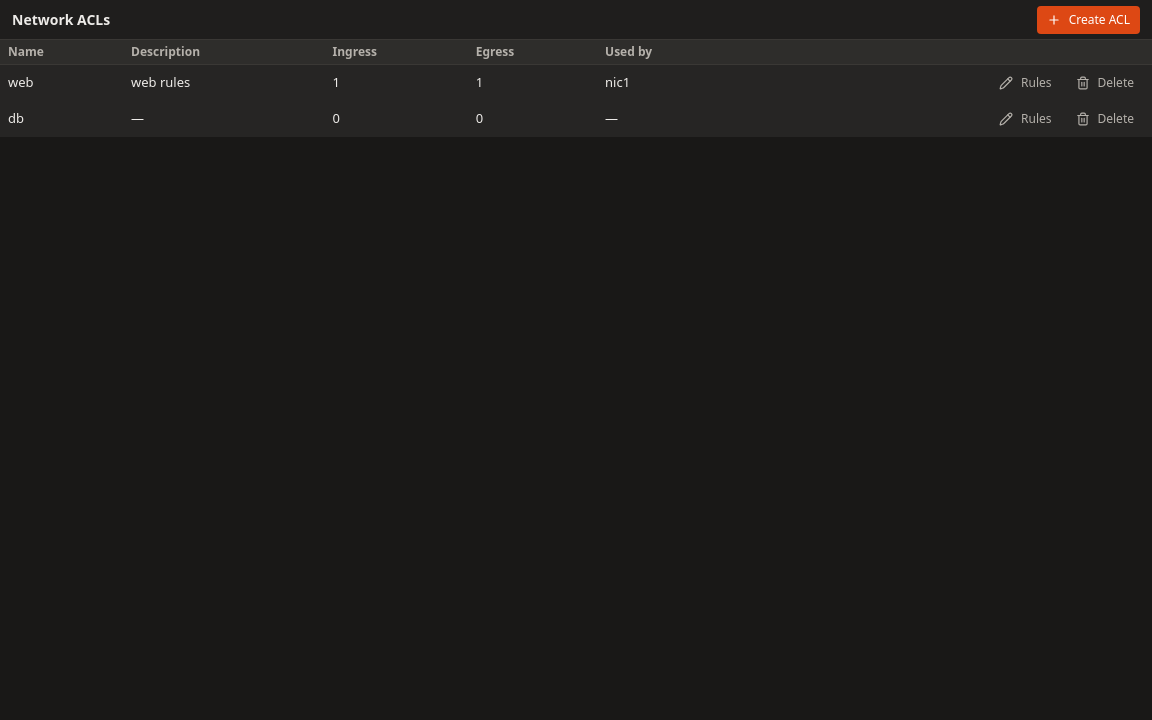
Test case: AclsPage › edits a rule in place via the row pencil
The width and height of the screenshot is (1152, 720).
Check: the text "web" is shown, box [8, 73, 34, 91]
Step 1. Click the button with test id "acl-rules-web" → (1025, 83), box [989, 69, 1062, 97]
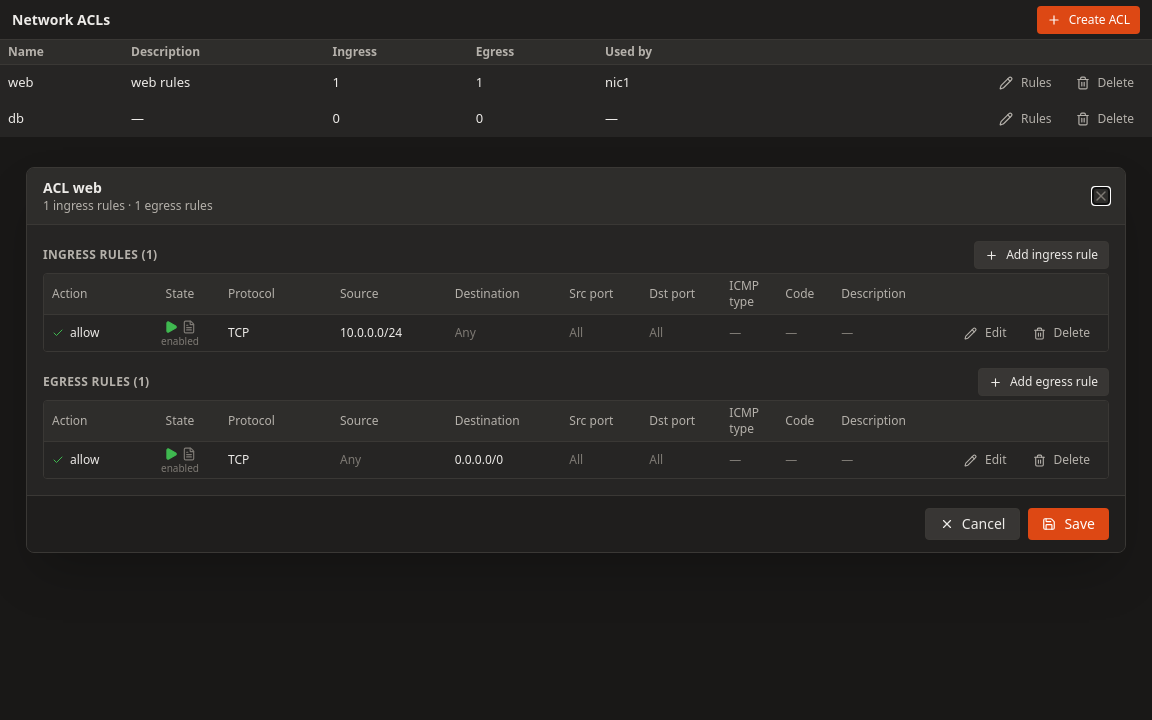
Check: the row with test id "acl-ingress-rule-0" is shown, box [44, 315, 1108, 351]
Step 2. Click the button with test id "acl-ingress-edit-0" → (985, 333), box [954, 319, 1016, 347]
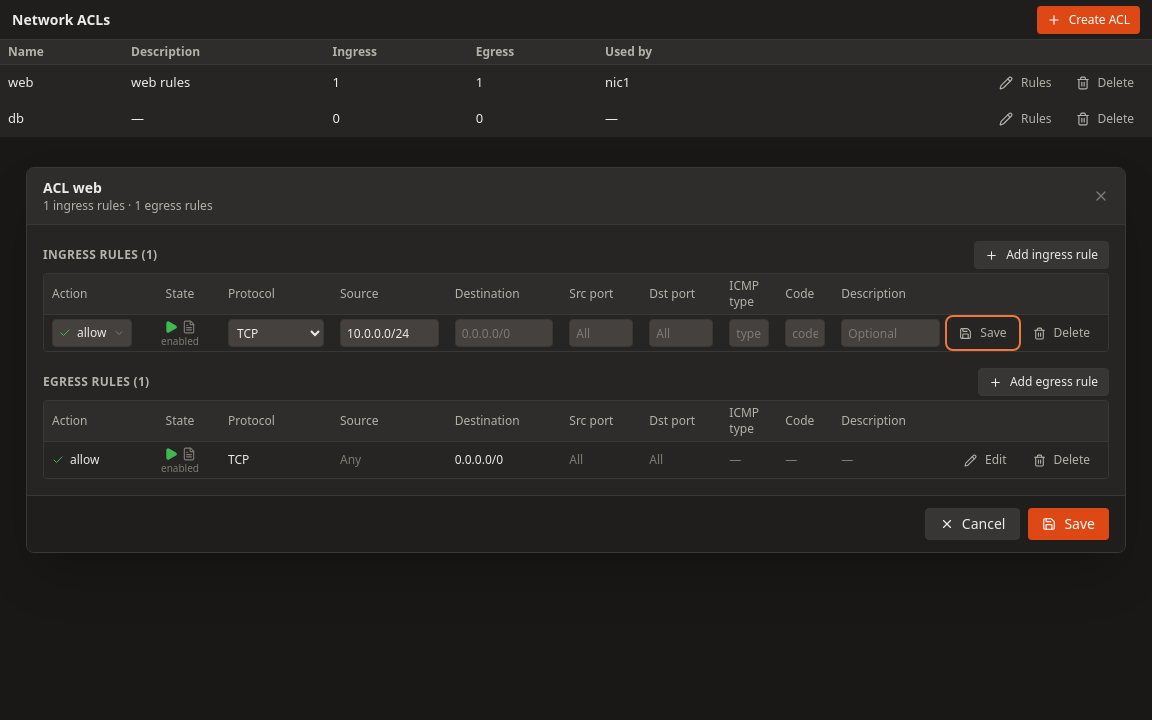
Check: the dropdown with test id "acl-ingress-protocol-0" is shown, box [228, 319, 324, 347]
Step 3. Click the button with test id "acl-ingress-done-0" → (983, 333), box [949, 319, 1016, 347]
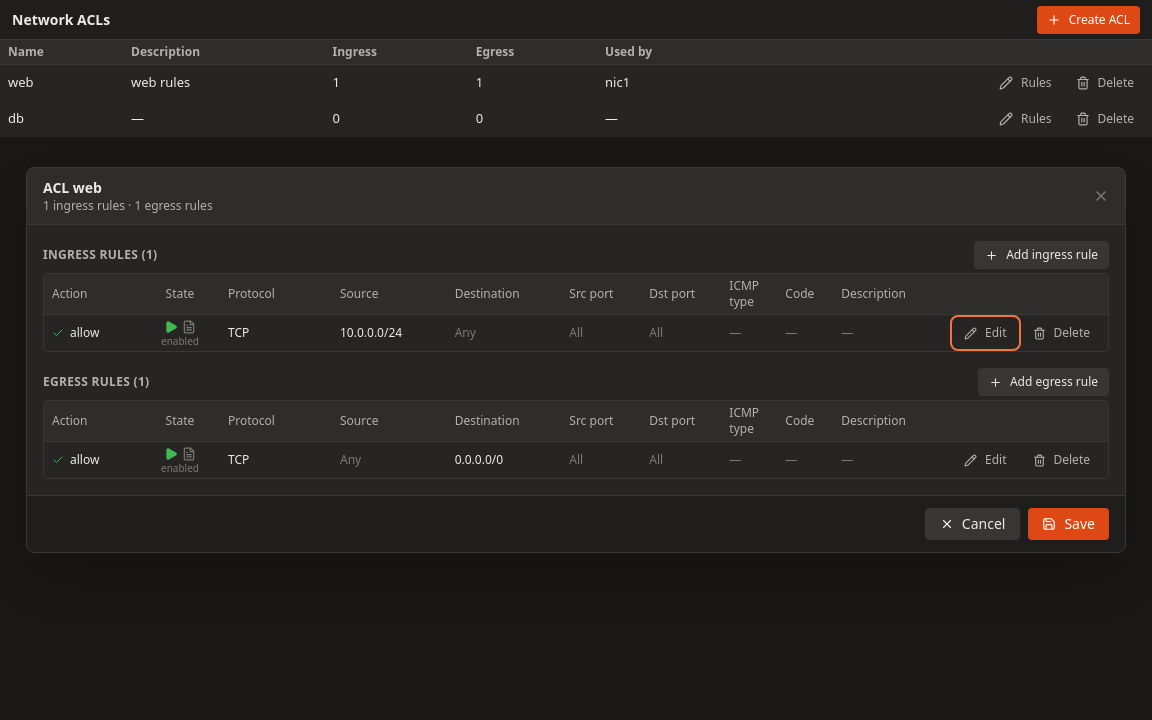
Check: the dropdown with test id "acl-ingress-protocol-0" is gone
